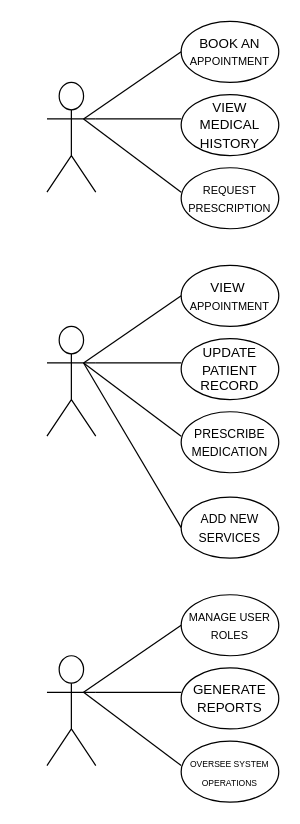
Image size: 300x824. Some labels were removed from this diagram. Each missing label, with the centre of its shape:
"ADMINISTRATOR" belongs at pixel 71 710.
"USER DOCTOR" belongs at pixel 71 380.
"USER PATIENT" belongs at pixel 71 136.
